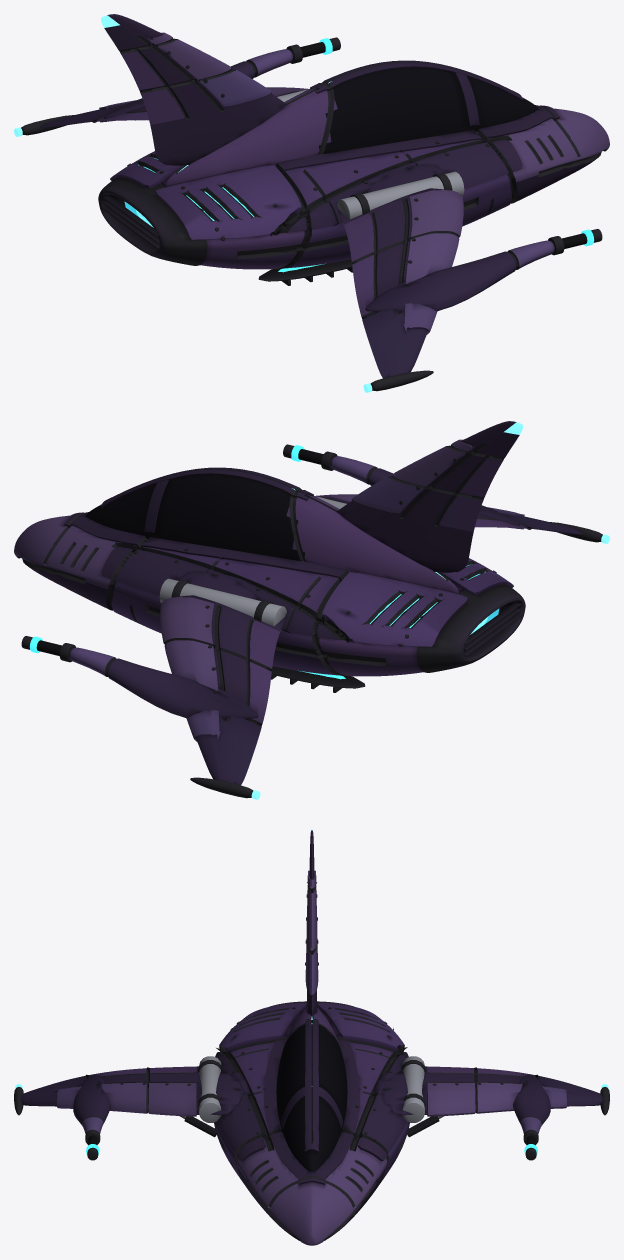
The model's file is flier.glb.
3 renders of one model, top to bottom at view 1: azimuth 30°, elevation 25°; view 2: azimuth 150°, elevation 25°; view 3: azimuth 270°, elevation 25°, orthographic. The views are drawn at different scales.
Visible parts, largest first — view 1: flier; view 2: flier; view 3: flier.
Part boxes in pixels (x1,y1,x2,y2): flier: [14, 14, 609, 392]; flier: [14, 421, 609, 799]; flier: [14, 829, 609, 1245].
Bounding box in the file's own units: 4.26 × 2.22 × 5.17.
